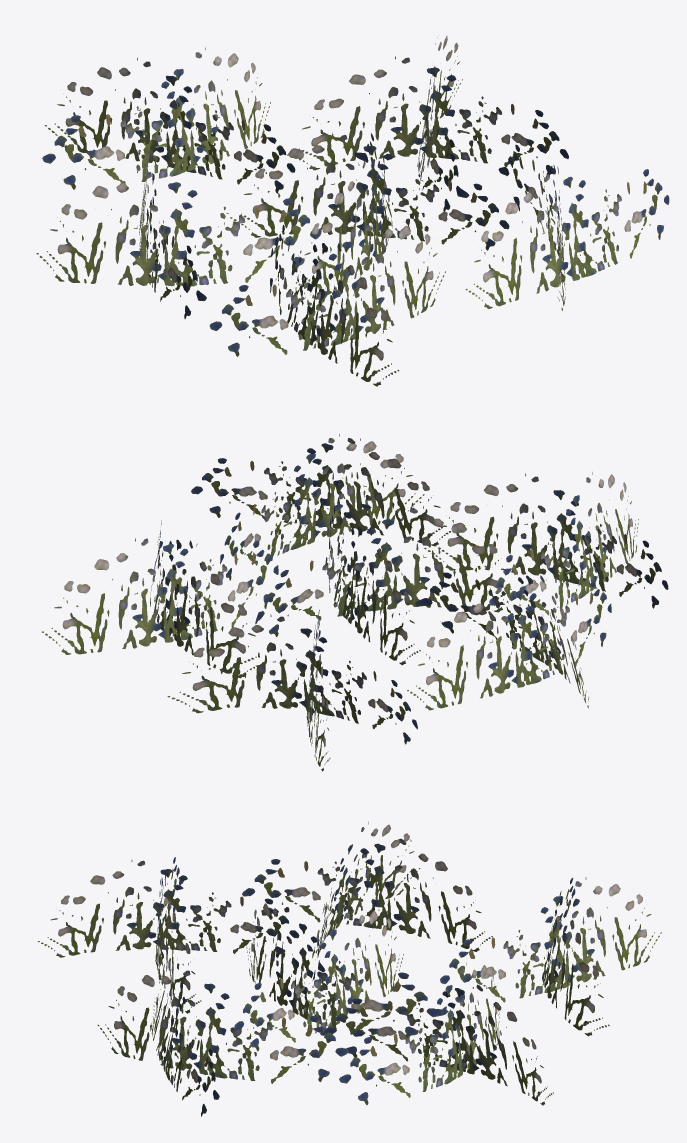
File: meadow_flower_white.glb
3 renders of one model, top to bottom at view 1: azimuth 30°, elevation 25°; view 2: azimuth 150°, elevation 25°; view 3: azimuth 270°, elevation 25°, orthographic. The views are drawn at different scales.
Visible parts, largest first — view 1: cluster_1; view 2: cluster_1; view 3: cluster_1.
Part boxes in pixels (bbox=[...]): cluster_1: bbox=[36, 35, 669, 386]; cluster_1: bbox=[41, 433, 668, 771]; cluster_1: bbox=[37, 821, 661, 1116].
Size of the model in its own units: 4.54 by 1.03 by 5.21.
Materials: 1 (1 with a texture image).
